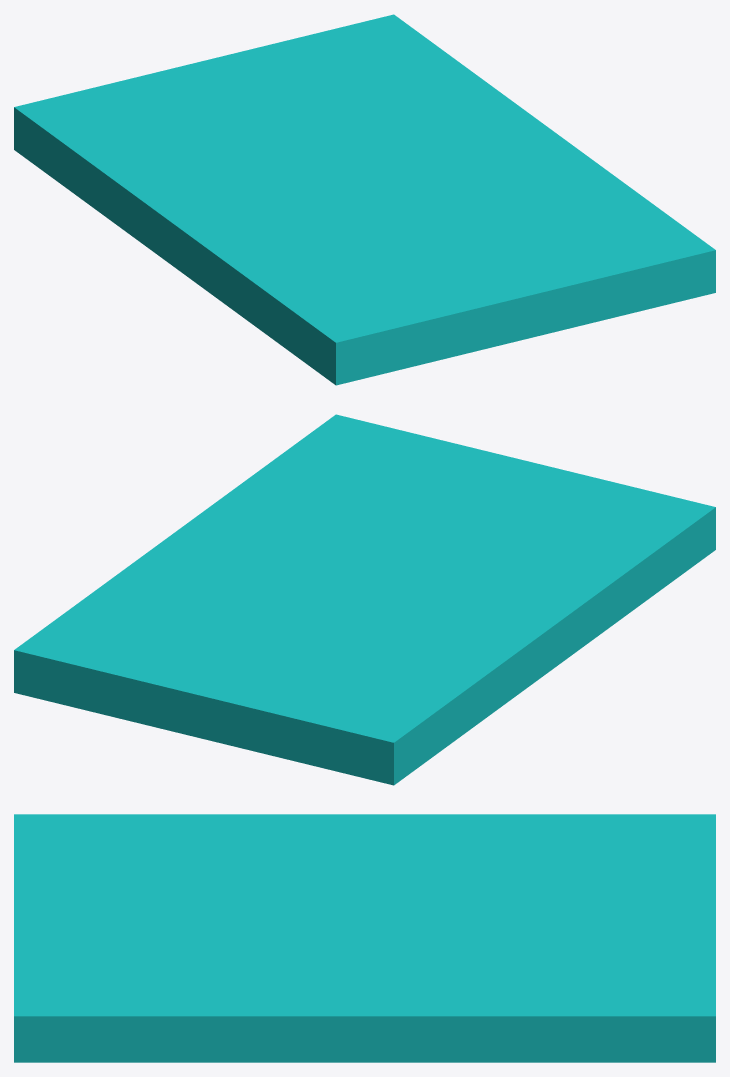
File: Pastillero.fbx
3 views of the same model, one above another, from view 1: azimuth 30°, elevation 25°; view 2: azimuth 150°, elevation 25°; view 3: azimuth 270°, elevation 25° (orthographic). The views are drawn at different scales.
Parts seen in each view (by area): view 1: Pastillero; view 2: Pastillero; view 3: Pastillero.
Part boxes in pixels (x1,y1,x2,y2): Pastillero: (14, 14, 715, 385); Pastillero: (14, 414, 715, 785); Pastillero: (14, 814, 715, 1062).
Bounding box in the file's own units: 0.1577 × 0.0169 × 0.2314.
